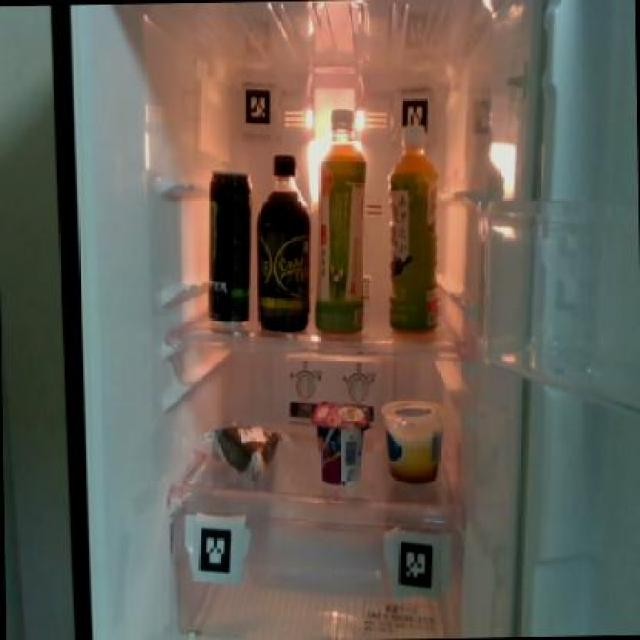coffee: (252, 151, 310, 332)
energy_drink: (203, 164, 252, 324)
pudding: (377, 394, 443, 484)
rice_ball: (205, 417, 281, 475)
tea_a: (384, 132, 442, 330)
tea_i: (312, 106, 370, 329)
yogurt: (310, 402, 365, 486)
